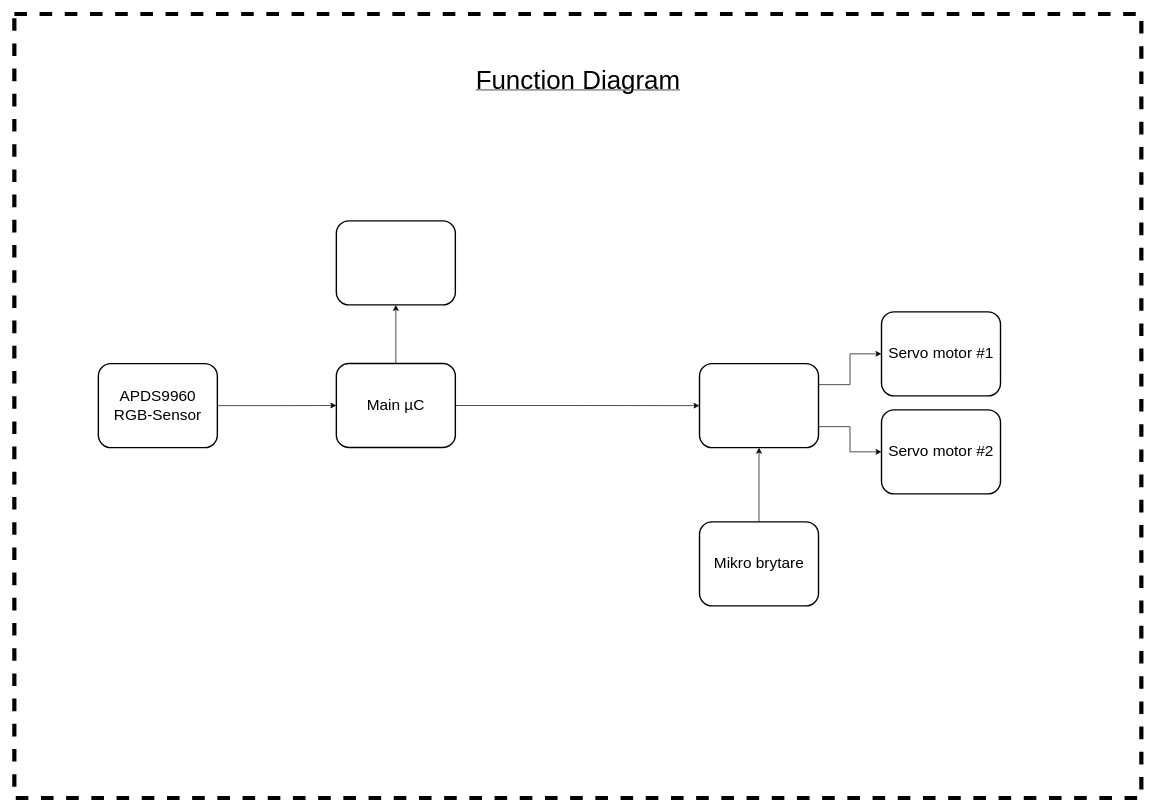
Image size: 1155x812. Some labels were removed from this diagram. Each missing label, with the centre of its shape:
LCD 2x16-Numerisk: (395,262)
Motor µC: (758,405)
